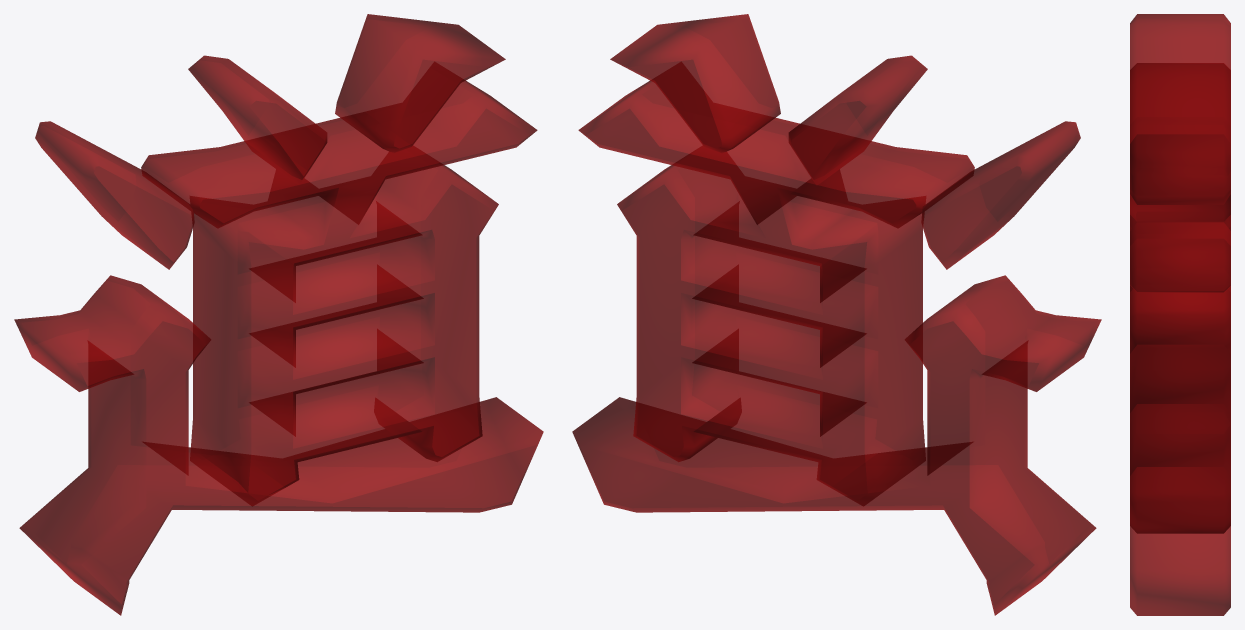
File: quest01.glb
The picture shows the model from 3 angles, left to right: view 1: azimuth 30°, elevation 25°; view 2: azimuth 150°, elevation 25°; view 3: azimuth 270°, elevation 25°; orthographic projection. The views are drawn at different scales.
Parts seen in each view (by area): view 1: Text.001; view 2: Text.001; view 3: Text.001.
Part boxes in pixels (x1,y1,x2,y2): Text.001: (14,14,543,615); Text.001: (572,14,1101,615); Text.001: (1130,14,1230,615).
Bounding box in the file's own units: 0.7057 × 0.693 × 0.14.
